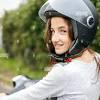helmet: (37, 0, 100, 58)
